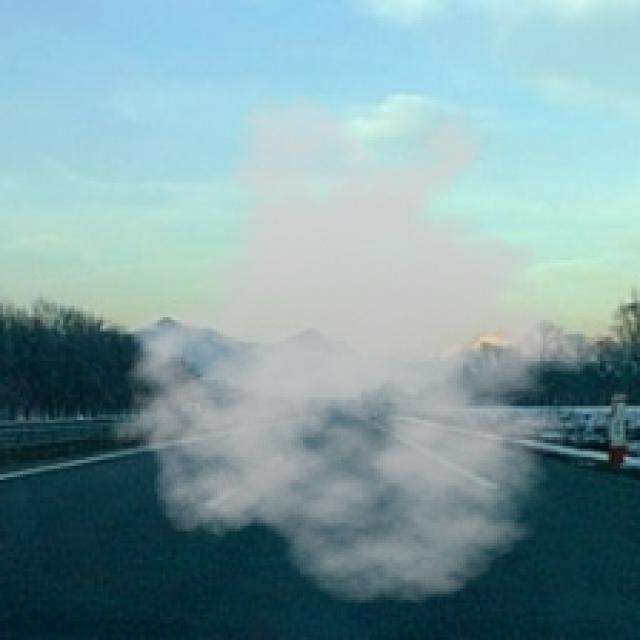smoke: (97, 91, 626, 606)
